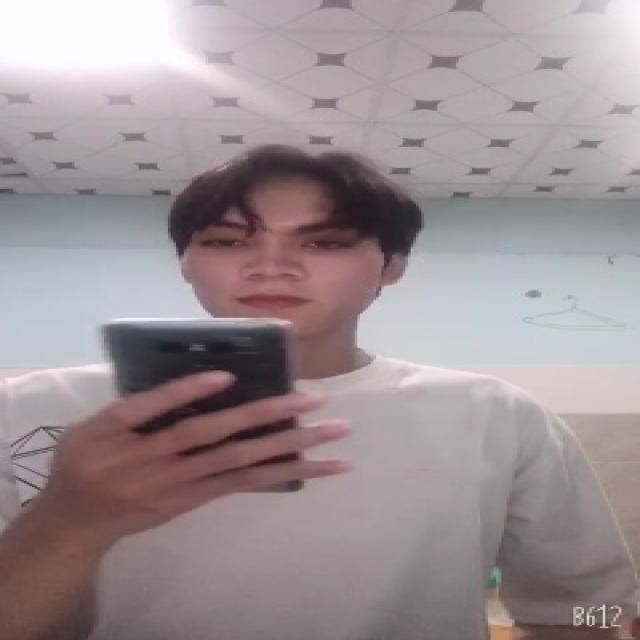Phone: (98, 315, 294, 507)
